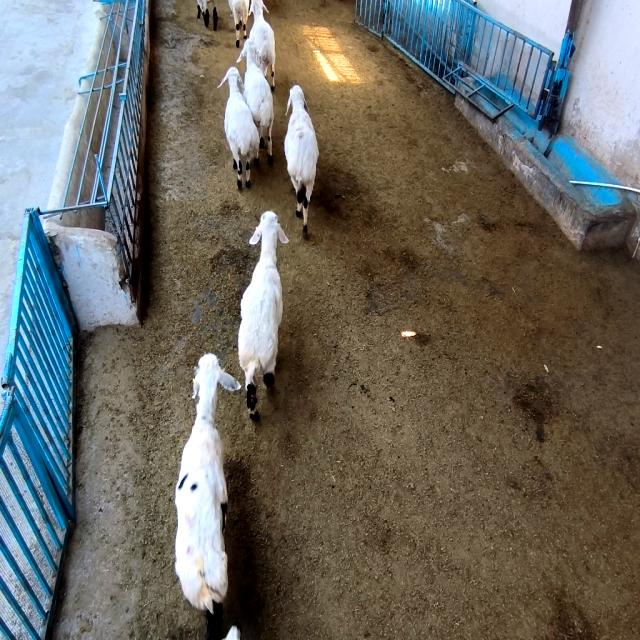sheep: (175, 353, 241, 638), (238, 212, 289, 418), (285, 85, 319, 238), (219, 67, 259, 189), (238, 38, 274, 159), (249, 0, 275, 89), (229, 0, 249, 46)
